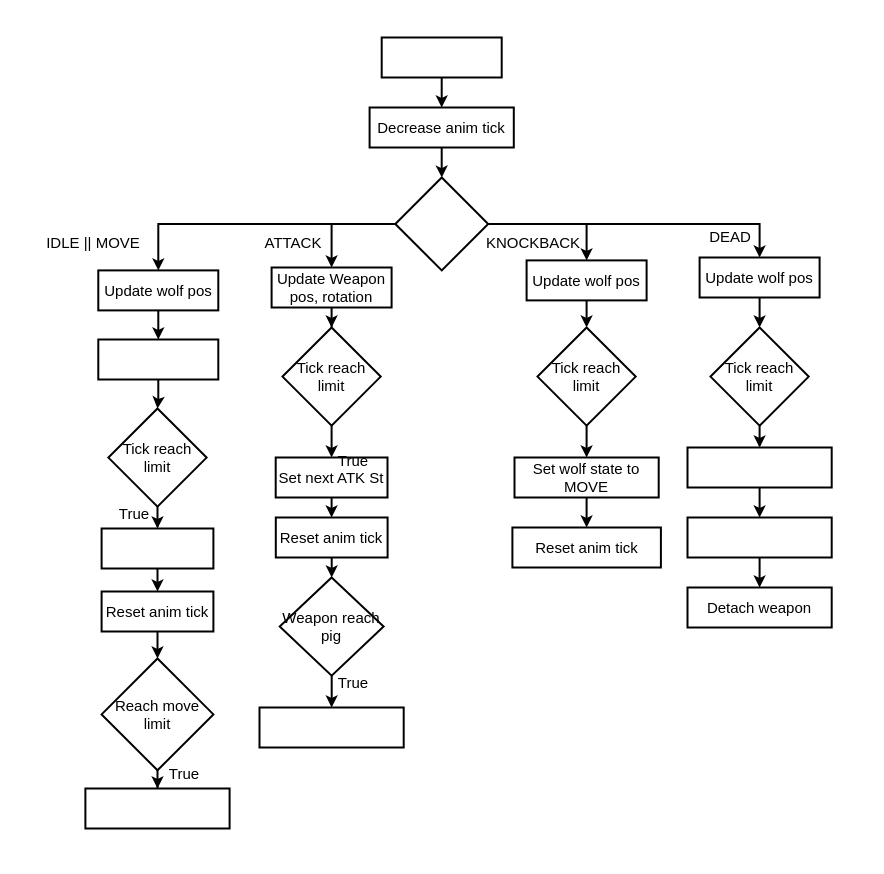
Image size: 884x874. Some labels were removed from this diagram. Here are the shapes that lost their labels. From the top down, the centre of each, then its label:
At point (441, 57): "Start update".
At point (441, 223): "Wolf st".
At point (158, 359): "Update Weapon pos".
At point (759, 467): "Set wolf state to DELETE".
At point (157, 548): "Set next Move St".
At point (759, 537): "Set weapon state FLY".
At point (331, 727): "Decreas pig hp".
At point (157, 808): "Set wolf state to ATTACK".
